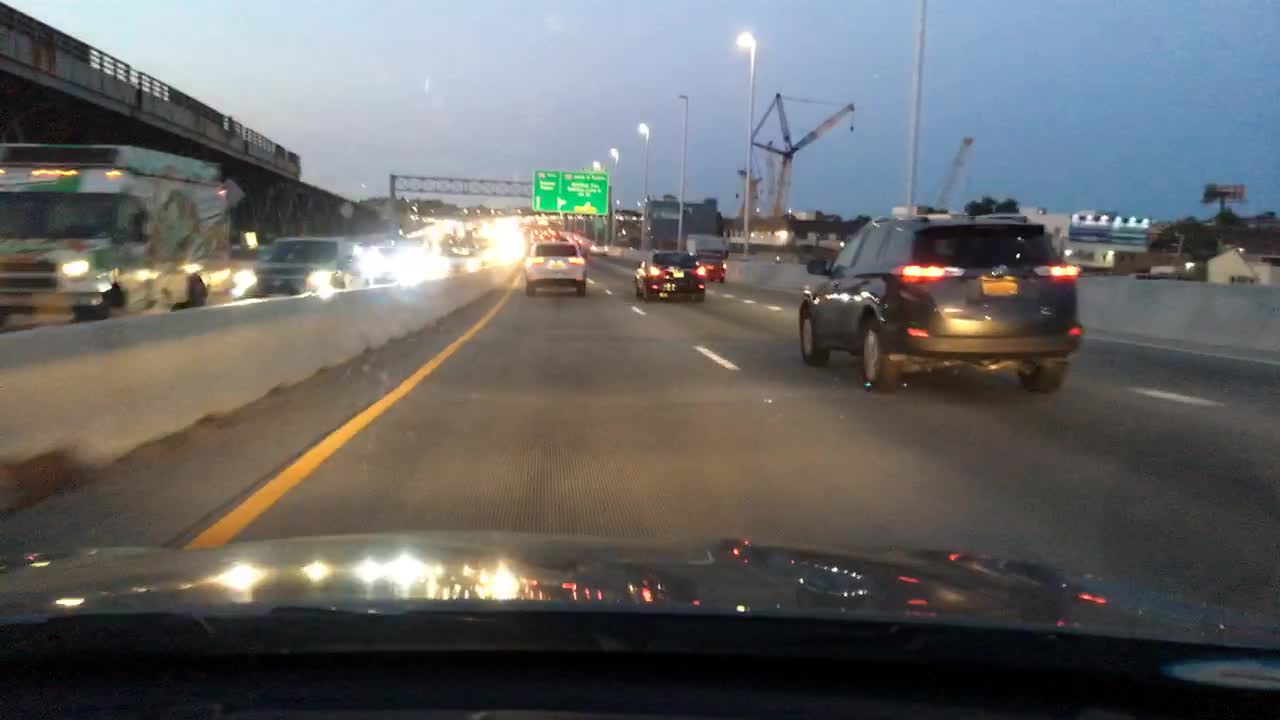car: (798, 211, 1085, 395), (254, 233, 376, 293), (521, 238, 587, 299), (633, 250, 706, 303), (369, 245, 438, 283), (231, 244, 270, 301), (691, 249, 727, 284), (444, 245, 478, 266), (570, 235, 588, 257), (587, 239, 608, 255), (557, 235, 570, 243)
traffic sign: (532, 170, 608, 215), (222, 177, 245, 210)
truck: (0, 141, 232, 336)
